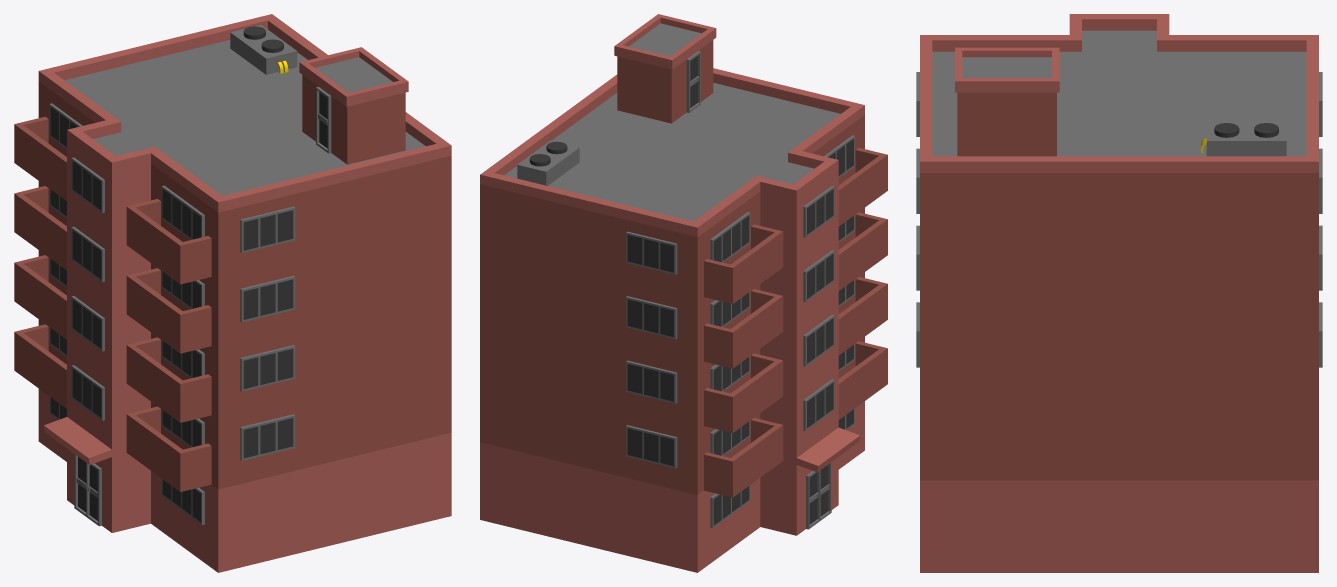
The model's file is House1.fbx.
The picture shows the model from 3 angles, left to right: view 1: azimuth 30°, elevation 25°; view 2: azimuth 150°, elevation 25°; view 3: azimuth 270°, elevation 25°; orthographic projection. The views are drawn at different scales.
Visible parts, largest first — view 1: House1; view 2: House1; view 3: House1.
Part boxes in pixels (x1,y1,x2,y2): House1: (14,14,451,572); House1: (480,14,887,572); House1: (916,14,1322,572).
Bounding box in the file's own units: 299 × 415 × 320.
Materials: 1 (1 with a texture image).
